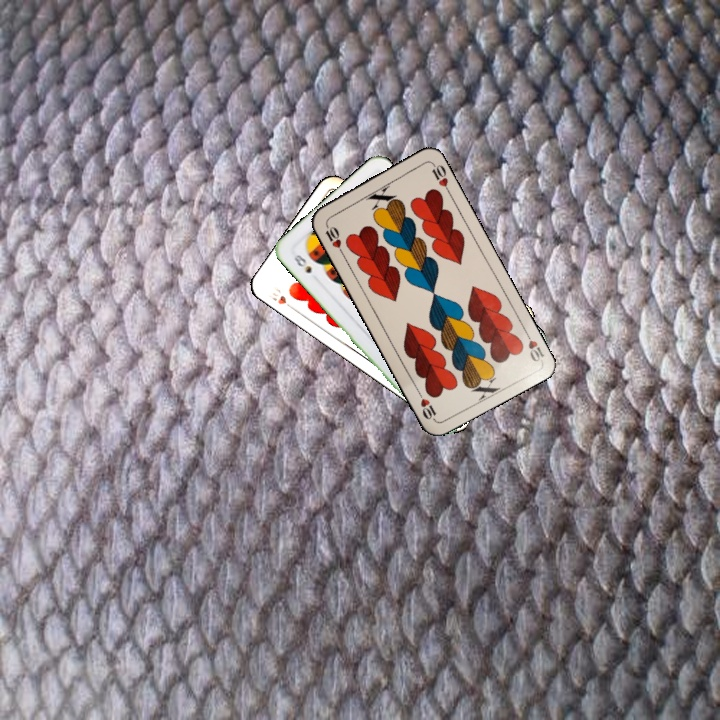H10: (519, 326, 546, 365), (264, 283, 298, 313), (321, 219, 346, 257)
S8: (290, 250, 314, 276)
